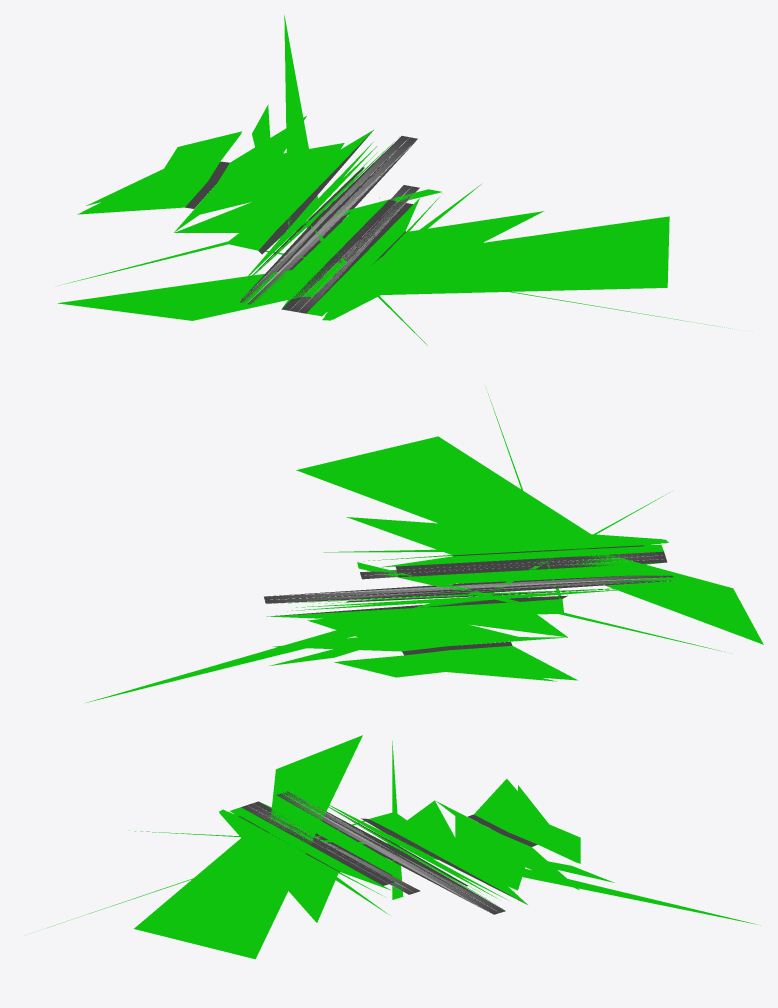
3 renders of one model, top to bottom at view 1: azimuth 30°, elevation 25°; view 2: azimuth 150°, elevation 25°; view 3: azimuth 270°, elevation 25°, orthographic. The views are drawn at different scales.
Bounding box in the file's own units: 296 × 3 × 359.
